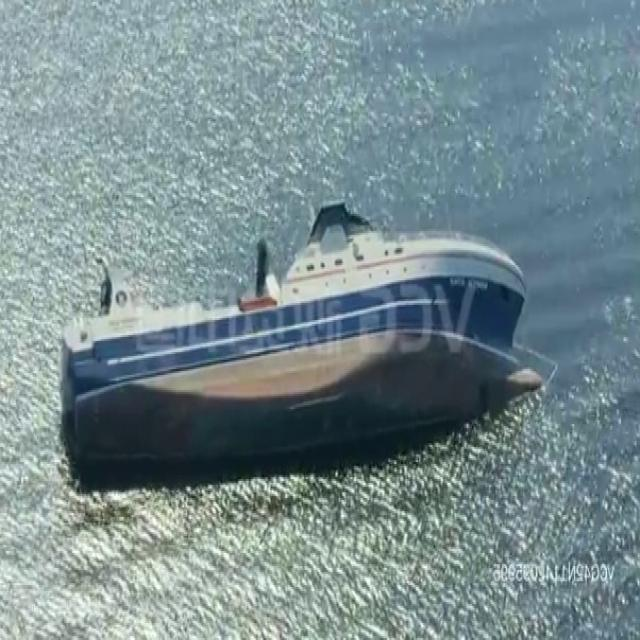passenger ship: (61, 178, 542, 454)
